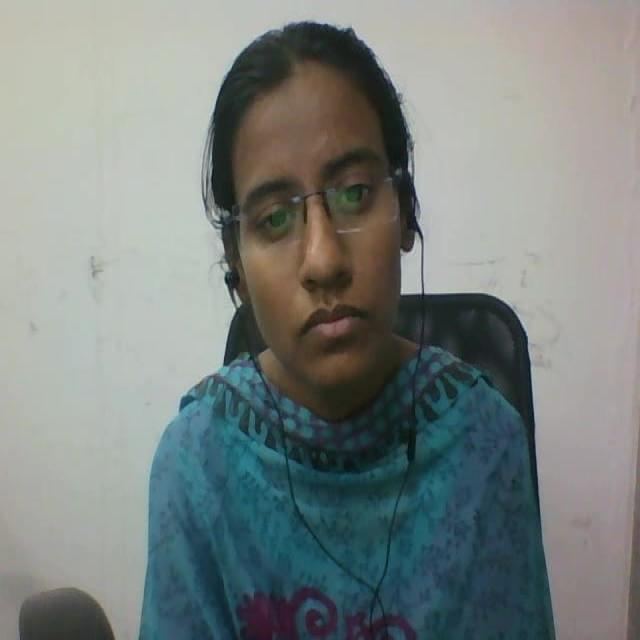Engaged: (188, 0, 448, 415)
